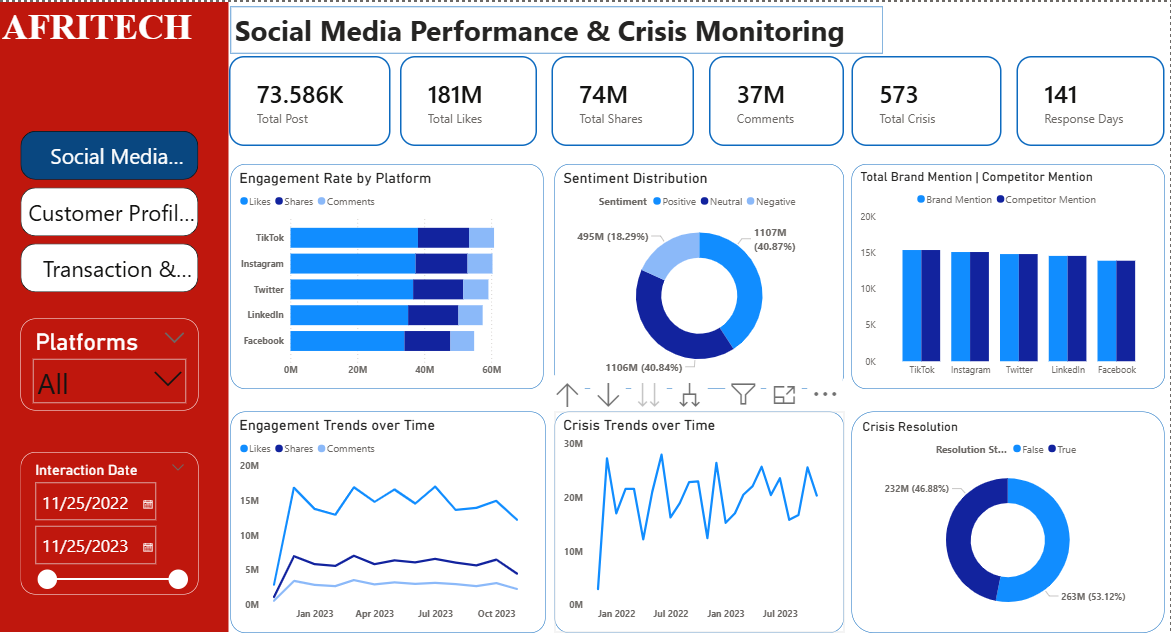

The dashboard page shown, as its layout file describes it:
{"tool":"powerbi","page":{"name":"Social Media Performance & Crisis Monitoring","canvas":[1562,851],"ordinal":0},"visuals":[{"type":"cardVisual","fields":{"Data":["CountNonNull(public socialmedia.postid)"]},"box":[307.5,72.5,215,120],"z":0},{"type":"cardVisual","fields":{"Data":["Sum(public socialmedia.engagementlikes)"]},"box":[535,72.5,182.5,120],"z":1000},{"type":"cardVisual","fields":{"Data":["Sum(public socialmedia.engagementshares)"]},"box":[737.5,72.5,190,120],"z":2000},{"type":"cardVisual","fields":{"Data":["Sum(public socialmedia.engagementcomments)"]},"box":[947.5,72.5,180,120],"z":3000},{"type":"cardVisual","fields":{"Data":["Count(public socialmedia.crisiseventtime)"]},"box":[1138,72,200,120],"z":4000},{"type":"cardVisual","fields":{"Data":["Median(public socialmedia.Response Days)"]},"box":[1357.5,72.5,197.5,120],"z":5000},{"type":"donutChart","title":"Crisis Resolution","fields":{"Y":["Sum(public socialmedia.postid)"],"Category":["public socialmedia.resolutionstatus"]},"box":[1137.5,545,417.5,295],"z":6000},{"type":"barChart","title":"Engagement Rate by Platform","fields":{"Category":["public socialmedia.platform"],"Y":["Sum(public socialmedia.engagementlikes)","Sum(public socialmedia.engagementshares)","Sum(public socialmedia.engagementcomments)"]},"box":[310,215,417.5,300],"z":7000},{"type":"donutChart","title":"Sentiment Distribution","fields":{"Category":["public socialmedia.sentiment"],"Y":["Sum(public socialmedia.postid)"]},"box":[742,216,386,300],"z":8000},{"type":"clusteredColumnChart","title":"Total Brand Mention | Competitor Mention","fields":{"Category":["public socialmedia.platform"],"Y":["CountNonNull(public socialmedia.competitormention)","CountNonNull(public socialmedia.brandmention)"]},"box":[1138,216,418,300],"z":9000},{"type":"shape","box":[5,0,300,845],"z":10000},{"type":"lineChart","title":"Engagement Trends over Time","fields":{"Y":["Sum(public socialmedia.engagementlikes)","Sum(public socialmedia.engagementshares)","Sum(public socialmedia.engagementcomments)"],"Category":["public socialmedia.interactiondate.Variation.Date Hierarchy.Year","public socialmedia.interactiondate.Variation.Date Hierarchy.Quarter","public socialmedia.interactiondate.Variation.Date Hierarchy.Month","public socialmedia.interactiondate.Variation.Date Hierarchy.Day"]},"box":[310,545,420,295],"z":11000},{"type":"lineChart","title":"Crisis Trends over Time","fields":{"Category":["public socialmedia.crisiseventtime.Variation.Date Hierarchy.Year","public socialmedia.crisiseventtime.Variation.Date Hierarchy.Quarter","public socialmedia.crisiseventtime.Variation.Date Hierarchy.Month","public socialmedia.crisiseventtime.Variation.Date Hierarchy.Day"],"Y":["Sum(public socialmedia.postid)"]},"box":[742.9,545.7,385.7,295],"z":12000},{"type":"textbox","box":[310,5,870,62.5],"z":13000},{"type":"textbox","box":[30,20,300,75],"z":14000},{"type":"slicer","fields":{"Values":["public socialmedia.platform"]},"box":[30,422.5,237.5,122.5],"z":15000},{"type":"slicer","fields":{"Values":["public socialmedia.interactiondate"]},"box":[30,600,237.5,190],"z":16000},{"type":"pageNavigator","box":[30,172.5,237.5,217.5],"z":17000}]}

Visuals, with their boxes on the page's 1562x851 design canvas (x1, y1, x2, y2). These are canvas units, not pixel positions in the 1171x634 screenshot, which may show the page scaled, cropped or inside an application window:
cardVisual - CountNonNull(public socialmedia.postid): (left=308, top=72, right=522, bottom=192)
cardVisual - Sum(public socialmedia.engagementlikes): (left=535, top=72, right=718, bottom=192)
cardVisual - Sum(public socialmedia.engagementshares): (left=738, top=72, right=928, bottom=192)
cardVisual - Sum(public socialmedia.engagementcomments): (left=948, top=72, right=1128, bottom=192)
cardVisual - Count(public socialmedia.crisiseventtime): (left=1138, top=72, right=1338, bottom=192)
cardVisual - Median(public socialmedia.Response Days): (left=1358, top=72, right=1555, bottom=192)
"Crisis Resolution" donutChart: (left=1138, top=545, right=1555, bottom=840)
"Engagement Rate by Platform" barChart: (left=310, top=215, right=728, bottom=515)
"Sentiment Distribution" donutChart: (left=742, top=216, right=1128, bottom=516)
"Total Brand Mention | Competitor Mention" clusteredColumnChart: (left=1138, top=216, right=1556, bottom=516)
shape: (left=5, top=0, right=305, bottom=845)
"Engagement Trends over Time" lineChart: (left=310, top=545, right=730, bottom=840)
"Crisis Trends over Time" lineChart: (left=743, top=546, right=1129, bottom=841)
textbox: (left=310, top=5, right=1180, bottom=68)
textbox: (left=30, top=20, right=330, bottom=95)
slicer - public socialmedia.platform: (left=30, top=422, right=268, bottom=545)
slicer - public socialmedia.interactiondate: (left=30, top=600, right=268, bottom=790)
pageNavigator: (left=30, top=172, right=268, bottom=390)
